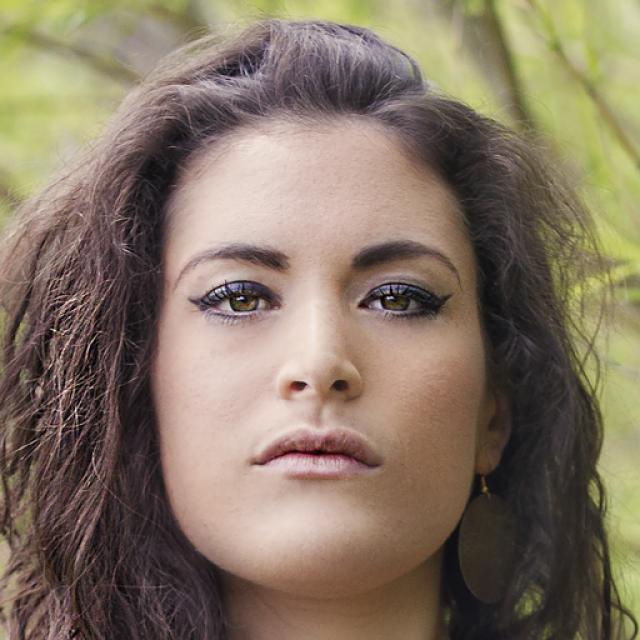neutral: (154, 113, 485, 592)
